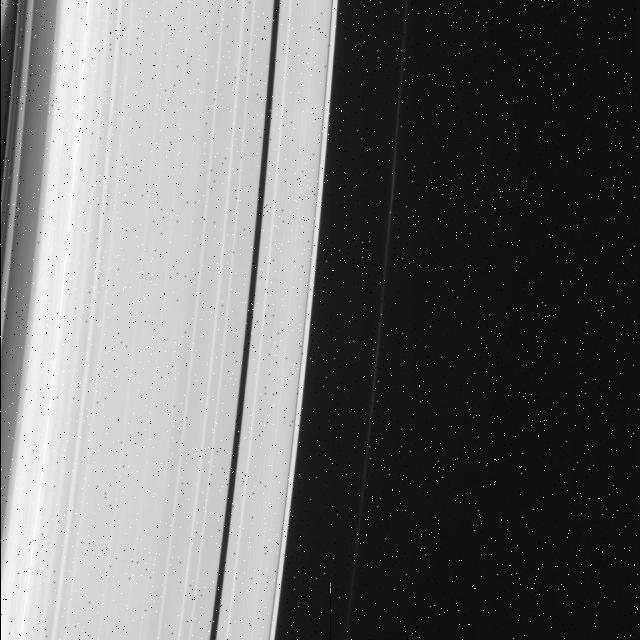Saturn: (0, 0, 415, 640)
